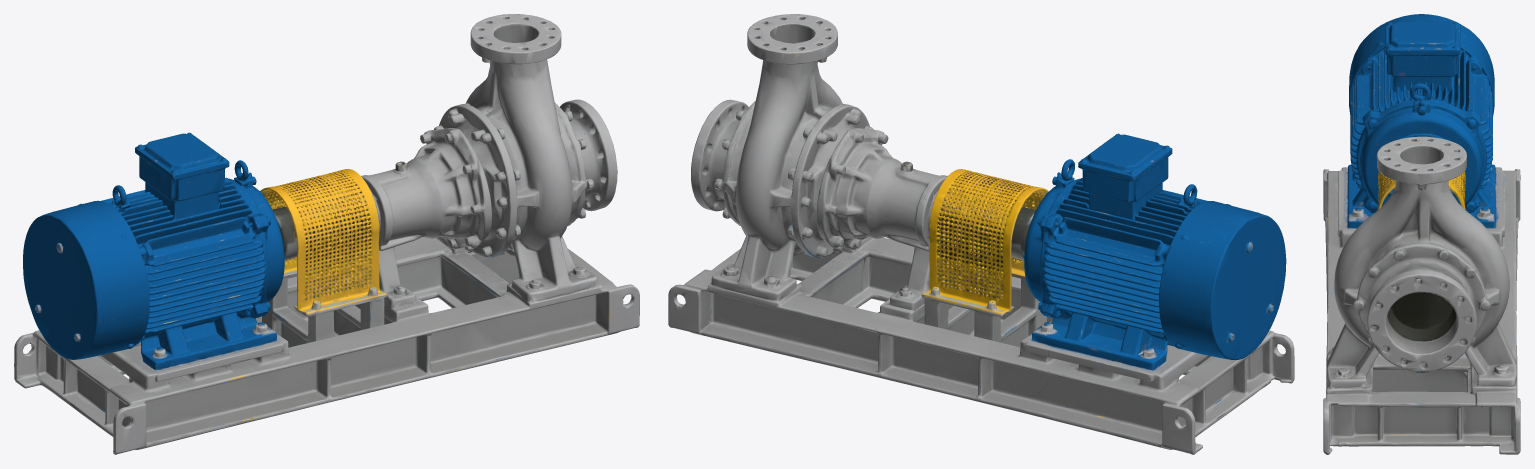
File: M01-pump.glb
3 views of the same model, side by side, from view 1: azimuth 30°, elevation 25°; view 2: azimuth 150°, elevation 25°; view 3: azimuth 270°, elevation 25° (orthographic). The views are drawn at different scales.
Size of the model in its own units: 3 by 1.49 by 0.995.
Materials: 1 (1 with a texture image).
